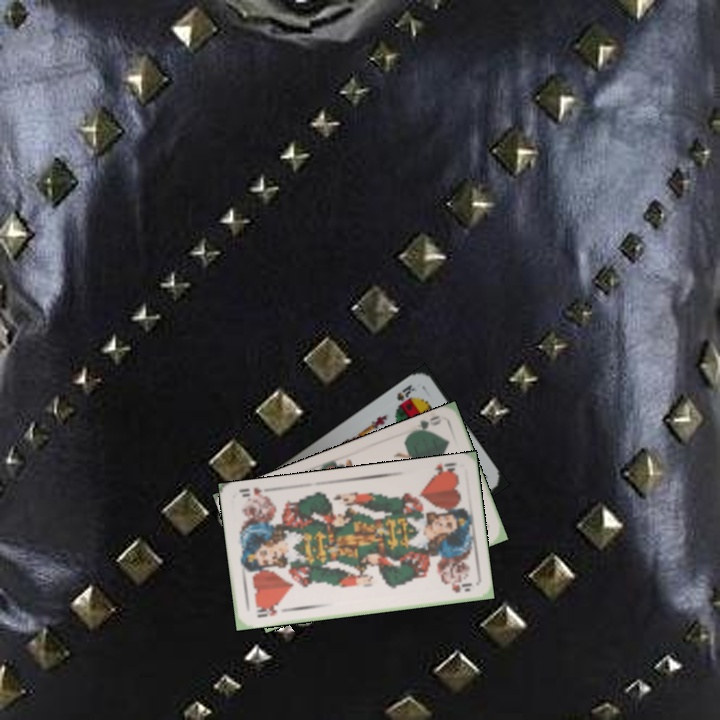GO: (406, 411, 444, 436)
HO: (426, 459, 461, 480), (252, 601, 281, 621)
SK: (393, 380, 417, 404)
